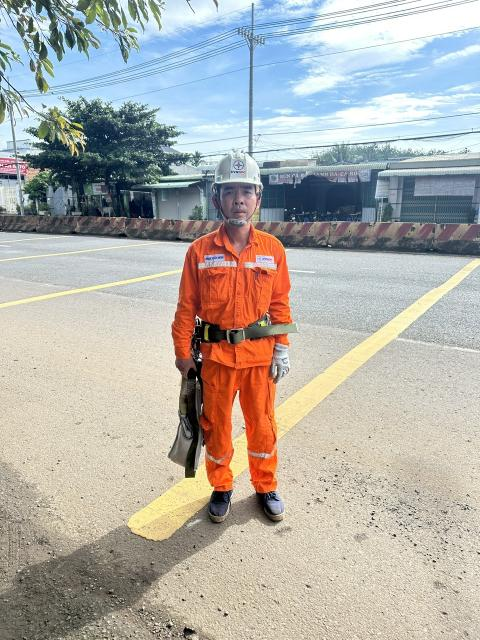gloves: (270, 335, 300, 388), (163, 356, 210, 387)
harness: (179, 313, 294, 344)
helmet: (194, 143, 280, 191)
shoes: (234, 472, 293, 528), (204, 480, 240, 532)
